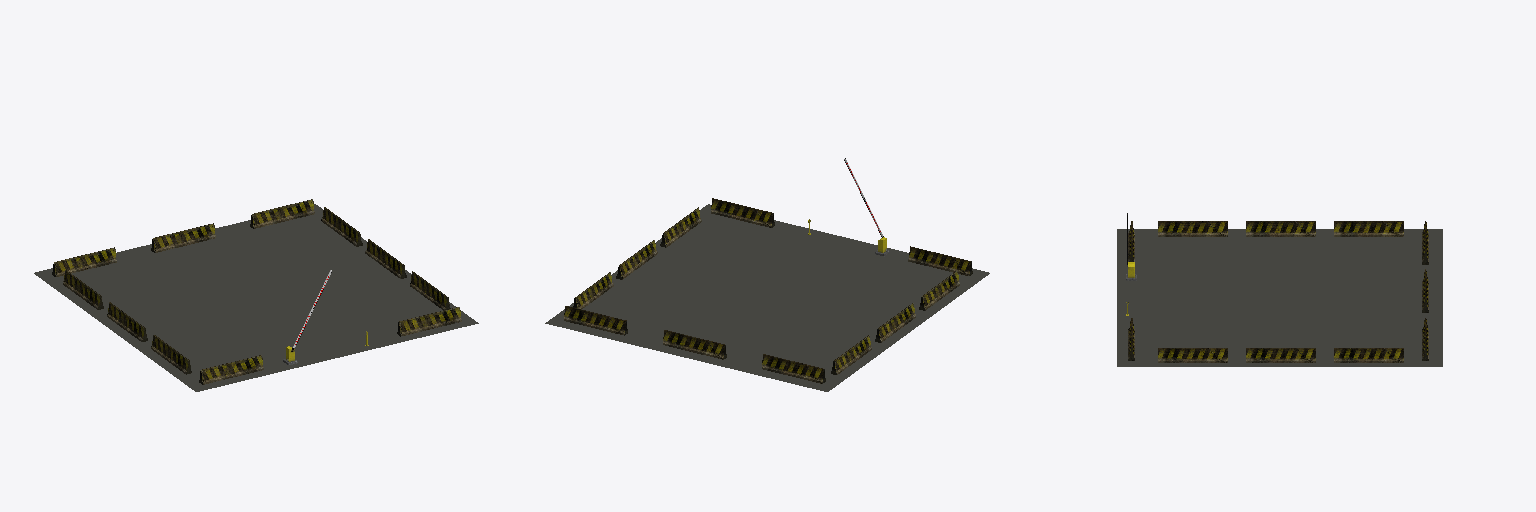
3 renders of one model, left to right at view 1: azimuth 30°, elevation 25°; view 2: azimuth 150°, elevation 25°; view 3: azimuth 270°, elevation 25°, orthographic.
Bounding box in the file's own units: 100 × 28.54 × 100.
3 materials, 2 textured.